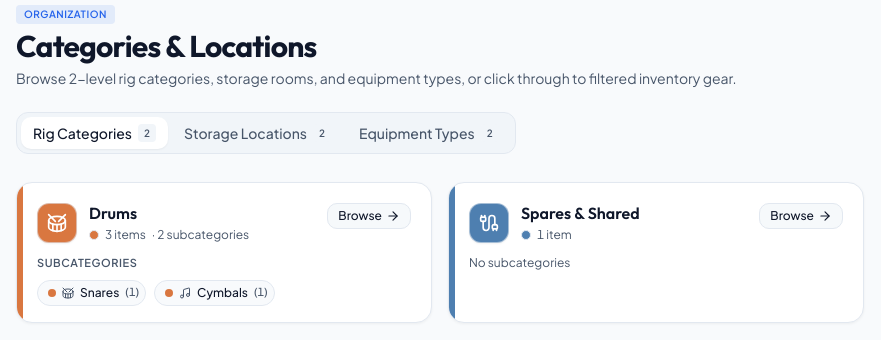
Test: CategoriesPage › renders 2-level categories, item counts, subcategory chips, and click-through links for Guests without CRUD controls
The image size is (881, 340).
Expected: the heading "Categories & Locations" is shown, [16,27,317,65]
Expected: the text "3 items" is shown, [105,227,146,243]
Note: Switch to Storage Locations tab
Step 1. Click the tab "Storage Locations 2" → (257, 133), box [172,117,343,149]
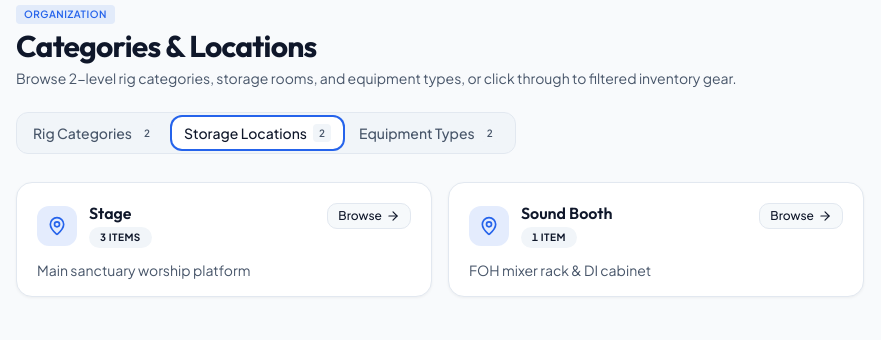
Expected: the text "3 items" is shown, [89,227,152,248]
Now the text "Main sanctuary worship platform" is shown, box [37,261,250,279]
